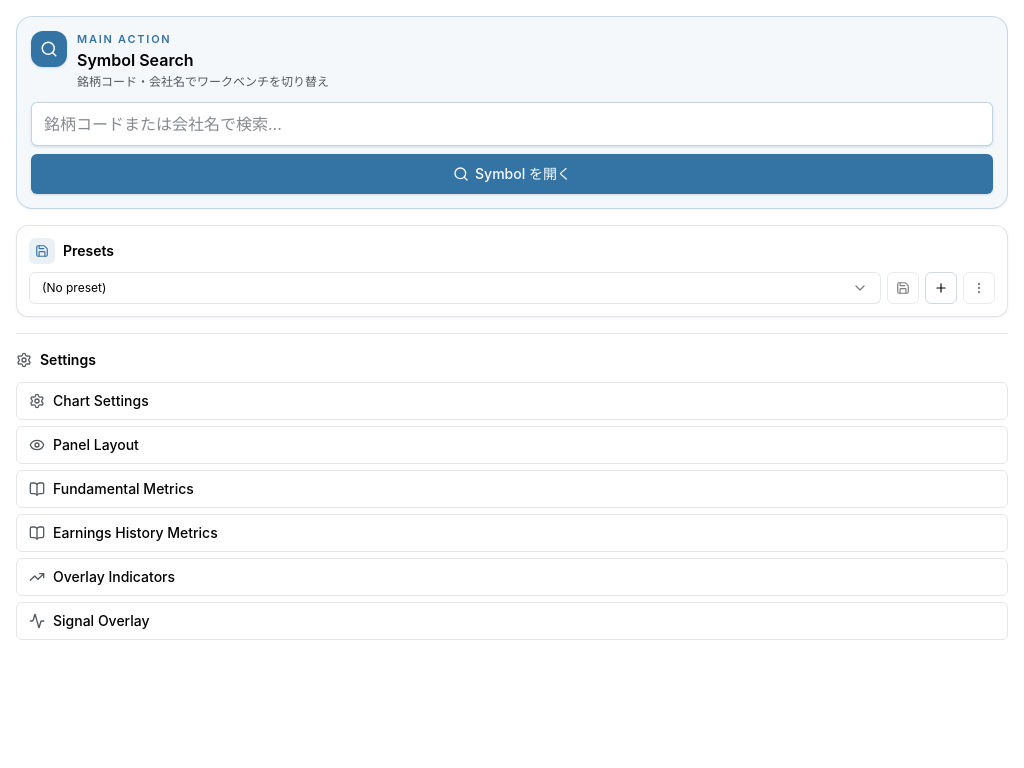
Test: ChartControls › shows signal metadata in panel layout when reference API is available
The image size is (1024, 768).
Click the button "Panel Layout" at (96, 444), box [16, 426, 1008, 464]
(page scrolled)
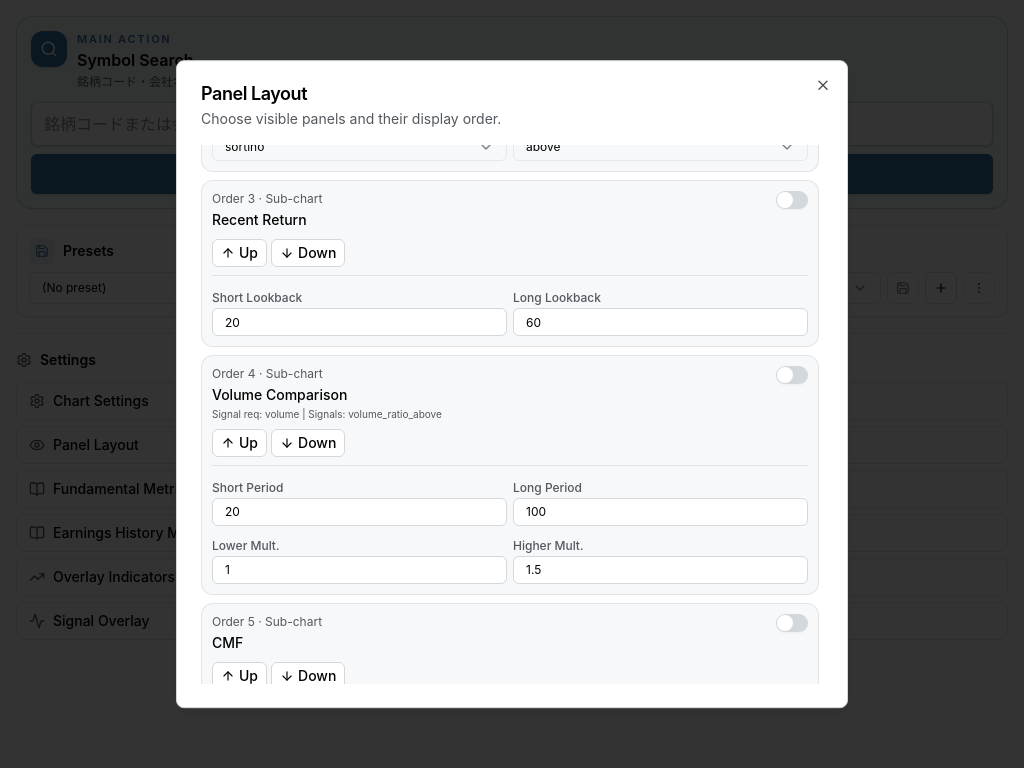
Check: the text "Signal req: volume | Signals: volume_ratio_above" is shown, box [212, 408, 442, 421]
